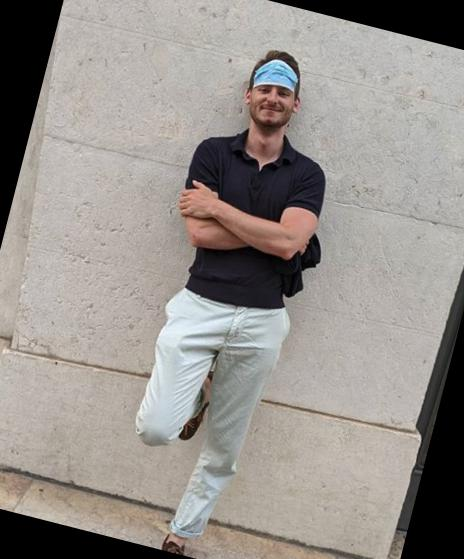mask_weared_incorrect: (241, 62, 305, 130)
